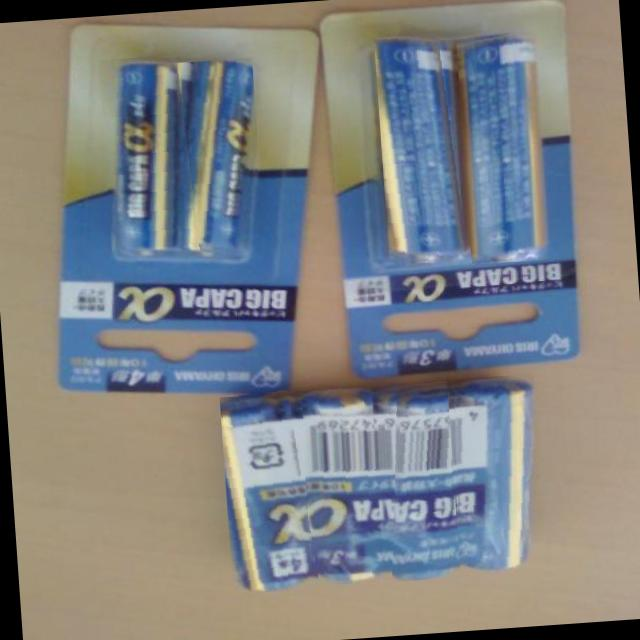Hazard: (454, 28, 552, 264), (372, 31, 468, 266), (158, 56, 264, 259), (96, 52, 198, 262), (218, 387, 318, 593), (446, 372, 546, 574), (296, 384, 382, 586), (376, 378, 459, 580)
